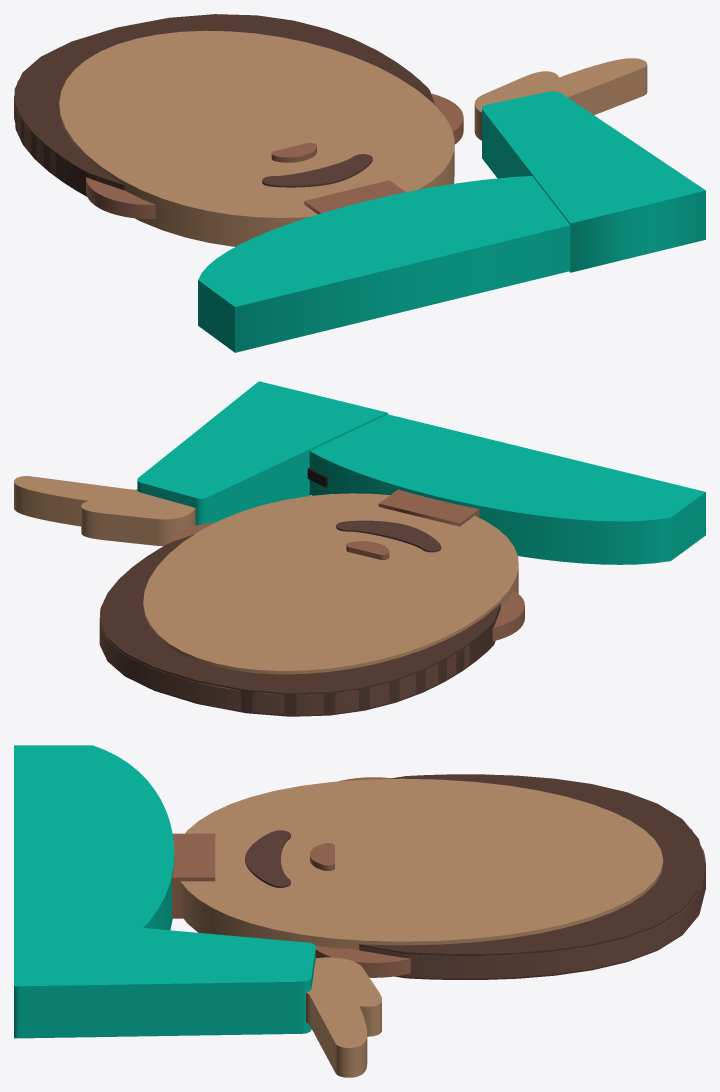
File: emoji_u1f481_1f3fd_200d_2642.glb
The picture shows the model from 3 angles, top to bottom: view 1: azimuth 30°, elevation 25°; view 2: azimuth 150°, elevation 25°; view 3: azimuth 270°, elevation 25°; orthographic projection. The views are drawn at different scales.
Parts seen in each view (by area): view 1: emoji_u1f481_1f3fd_200d_2642; view 2: emoji_u1f481_1f3fd_200d_2642; view 3: emoji_u1f481_1f3fd_200d_2642.
Boxes of the visible parts, x1,y1,x2,y2 form: emoji_u1f481_1f3fd_200d_2642: [14, 14, 705, 352]; emoji_u1f481_1f3fd_200d_2642: [14, 381, 705, 716]; emoji_u1f481_1f3fd_200d_2642: [14, 745, 705, 1077].
Bounding box in the file's own units: 0.0338 × 0.0028 × 0.0337.
